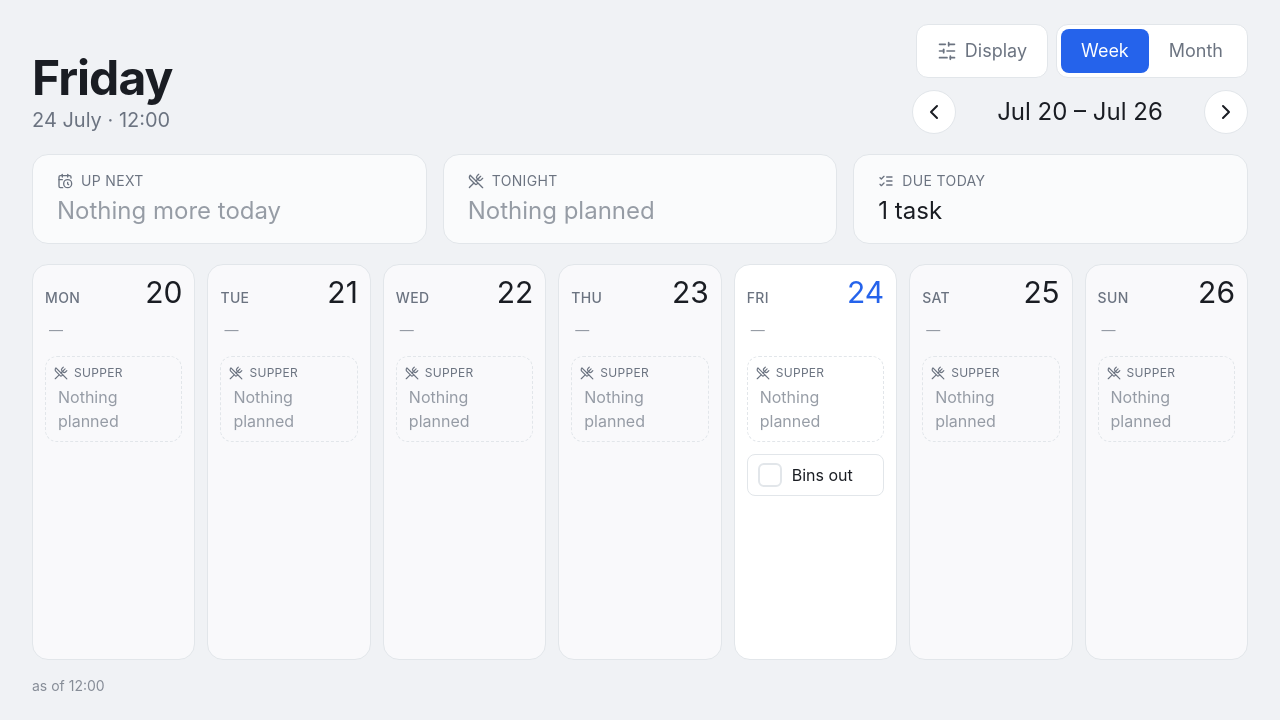
Test: HearthPage display settings modal › tasks toggle hides task chips and removes the due-today panel, and persists
Expected: the text "Bins out" is shown, [792,465,853,485]
Expected: the text "Due today" is shown, [878,172,985,189]
Click the button "Display" at (982, 51), box [916,24,1048,78]
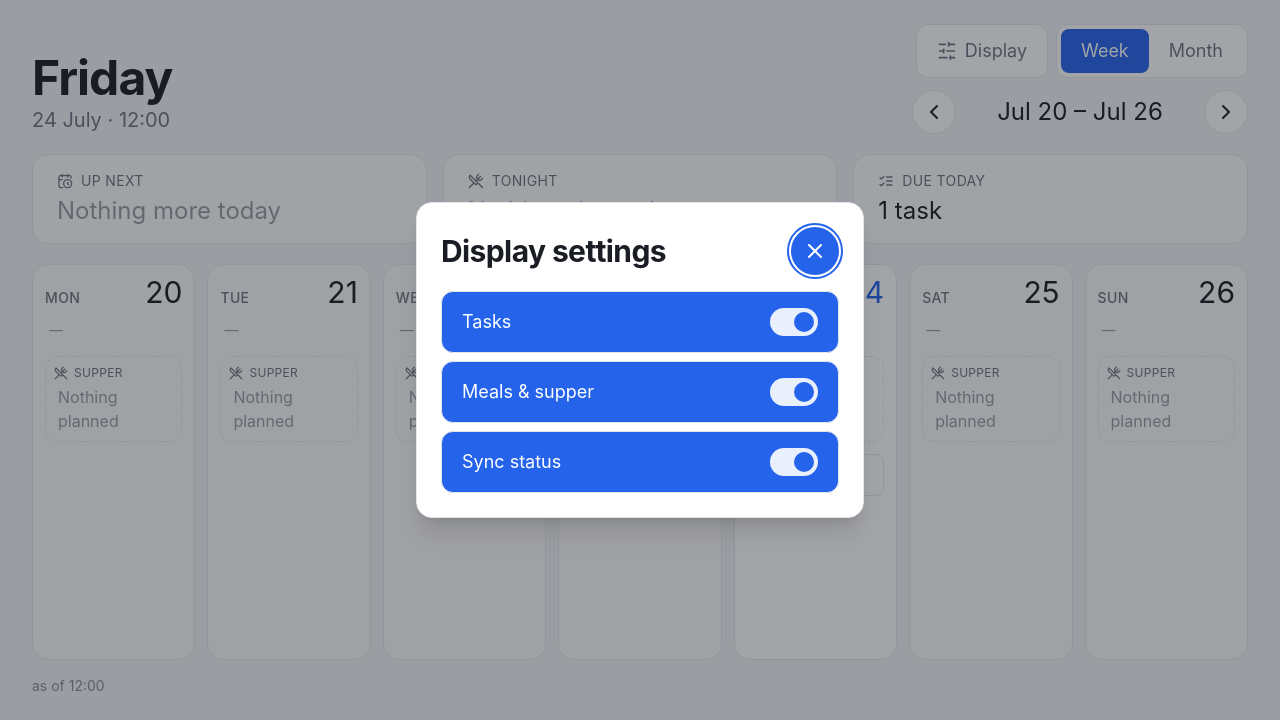
Click the button "Tasks" at (487, 322), box [441,291,839,353]
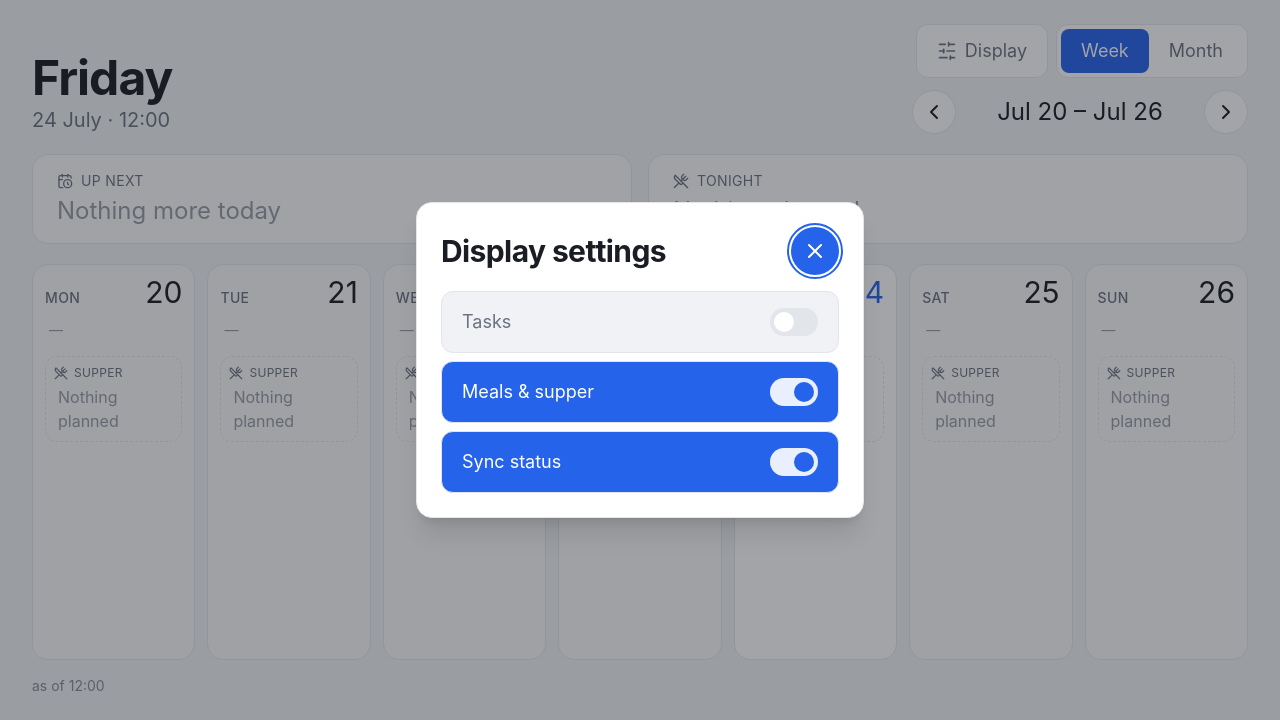
Expected: the button "Bins out" is not shown
Expected: the text "Due today" is gone
